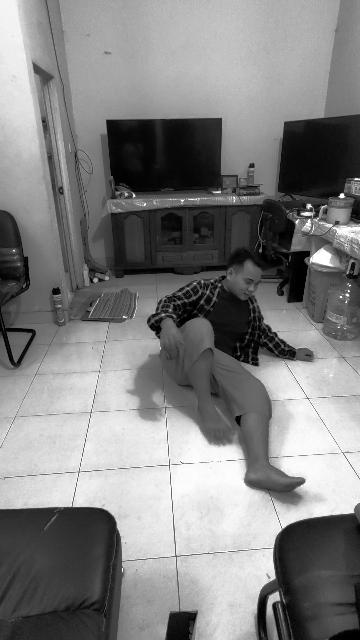jatuh: (148, 248, 318, 496)
